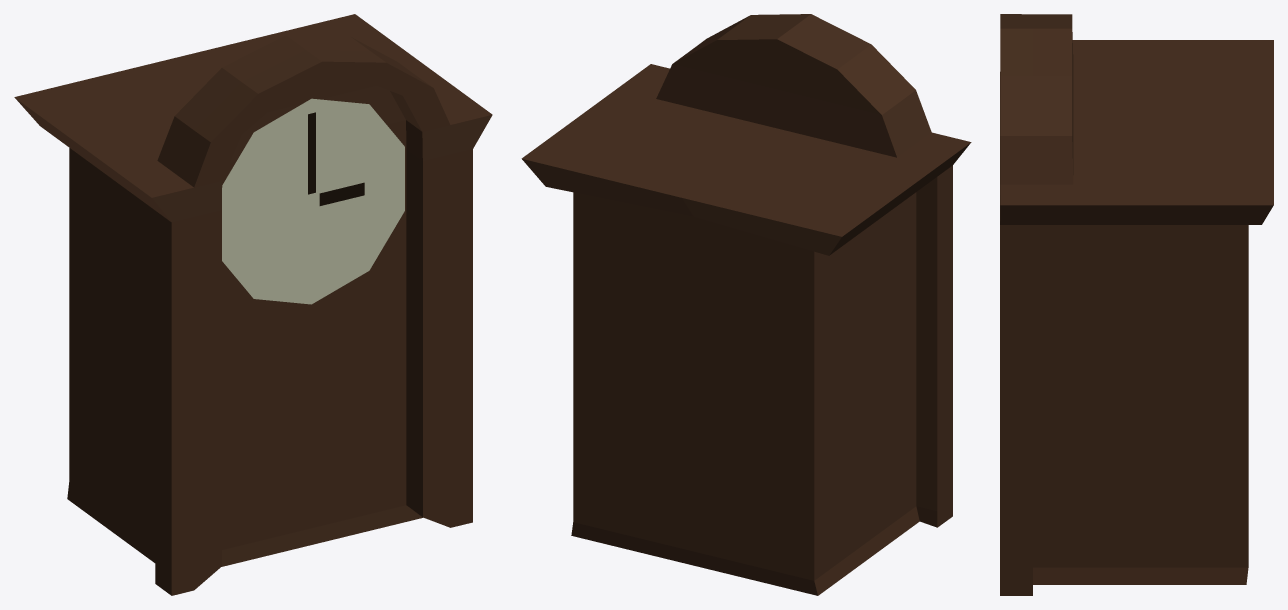
The model's file is table clock.fbx.
3 renders of one model, left to right at view 1: azimuth 30°, elevation 25°; view 2: azimuth 150°, elevation 25°; view 3: azimuth 270°, elevation 25°, orthographic. The views are drawn at different scales.
Visible parts, largest first — view 1: table clock, grandfather clock pointer_large, grandfather clock pointer_small; view 2: table clock; view 3: table clock.
Part boxes in pixels (x1,y1,x2,y2): table clock: [14, 14, 492, 595]; grandfather clock pointer_large: [308, 112, 315, 194]; grandfather clock pointer_small: [319, 182, 364, 205]; table clock: [521, 14, 971, 595]; table clock: [1000, 14, 1273, 595].
Size of the model in its own units: 43.61 by 30.52 by 60.82.
